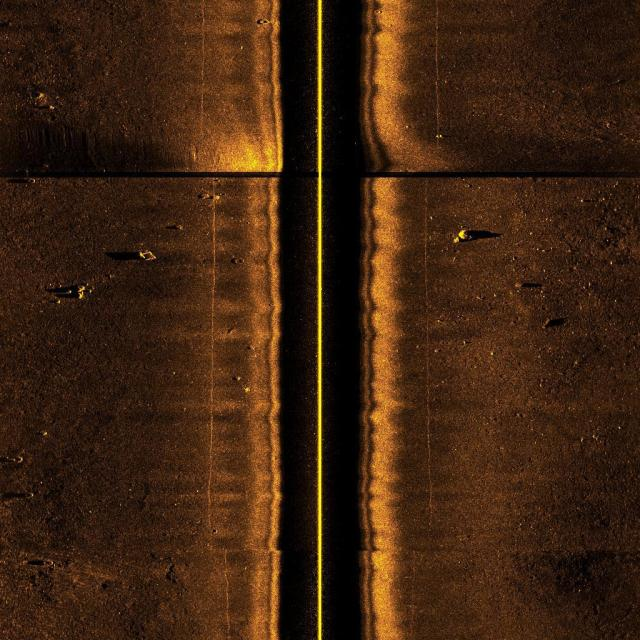mine: (449, 223, 494, 245), (540, 314, 572, 332)
other: (134, 247, 167, 266)
